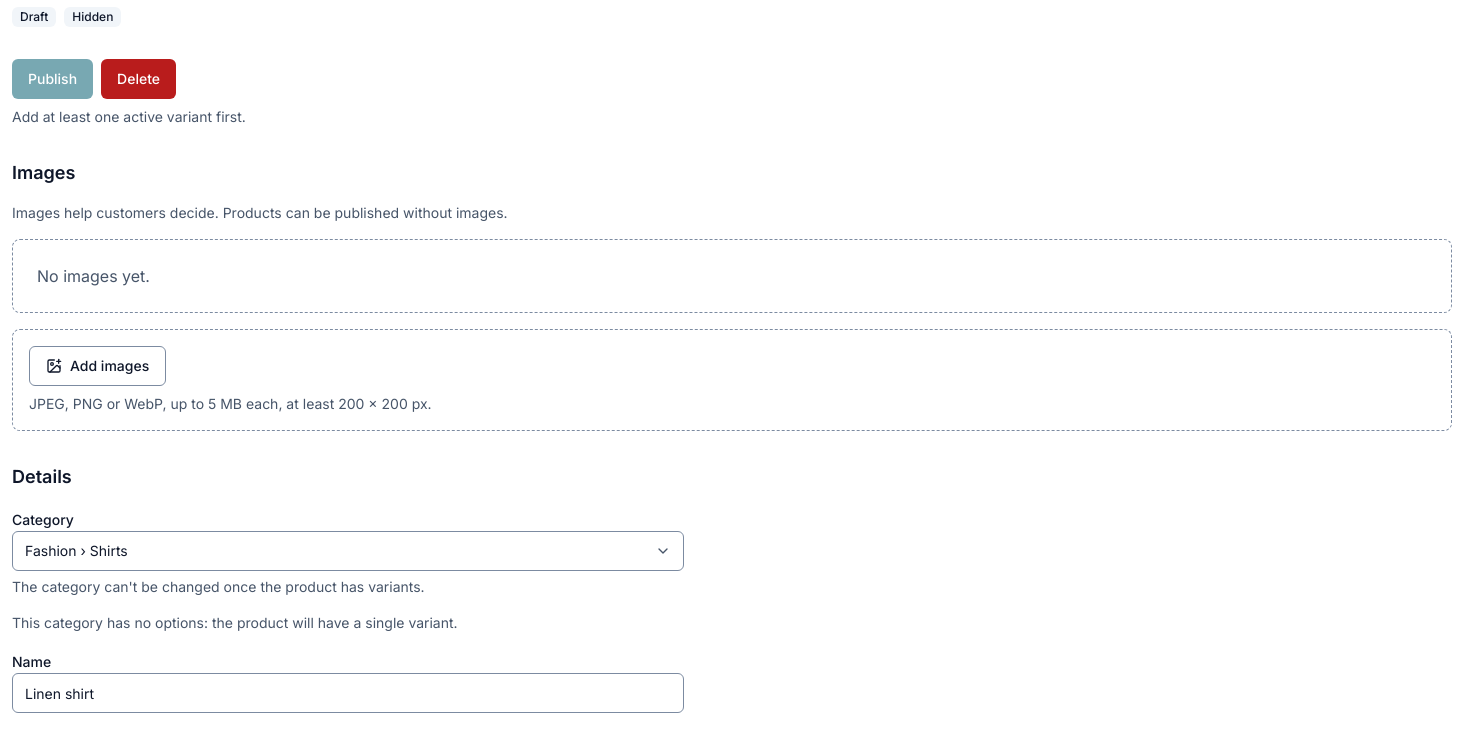
Test: product page (spec 02 SE-10) › PRODUCT_CATEGORY_LOCKED (a variant was added elsewhere): refetch, error on the category
Click the dropdown named "Category": (76, 550) [12,531,684,571]
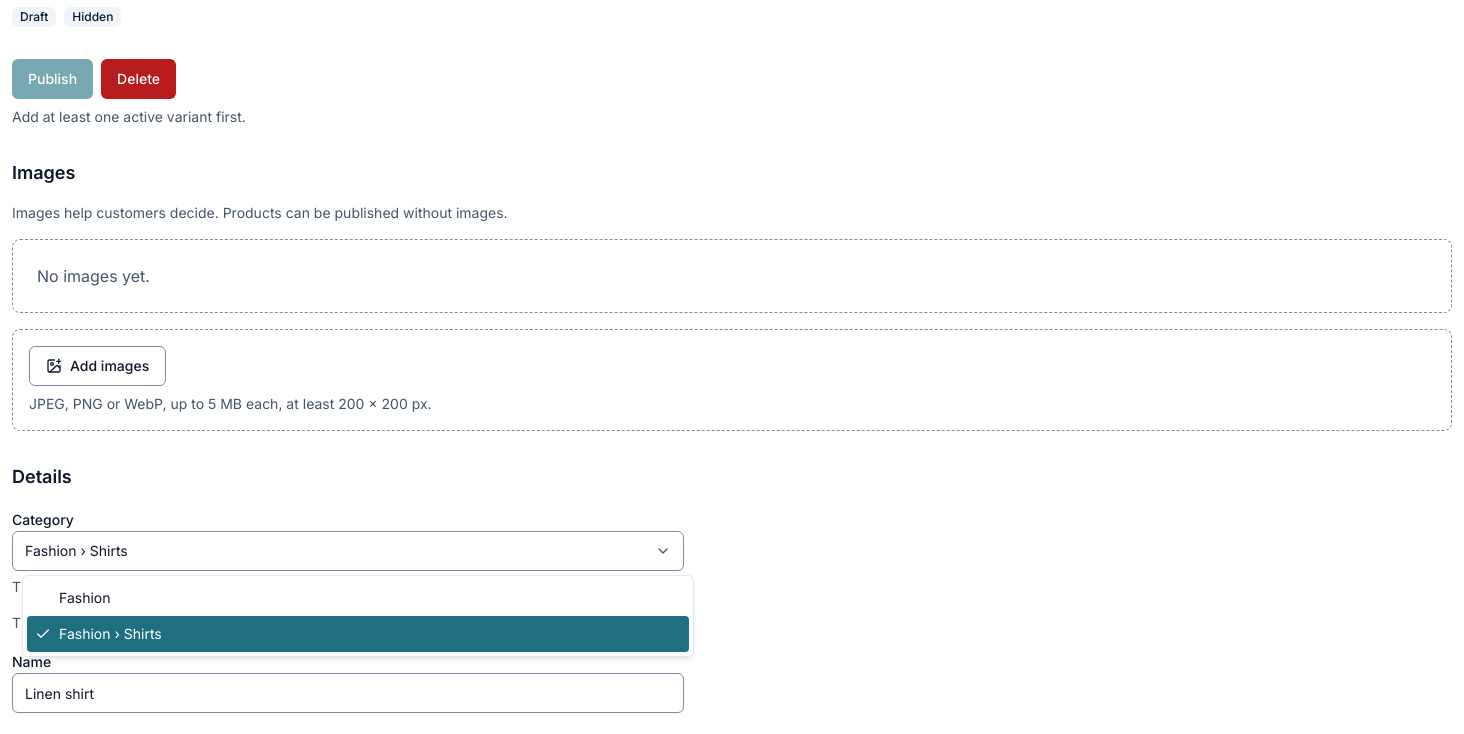
Click the option "Fashion": (85, 598) [59,589,110,606]
(page scrolled)
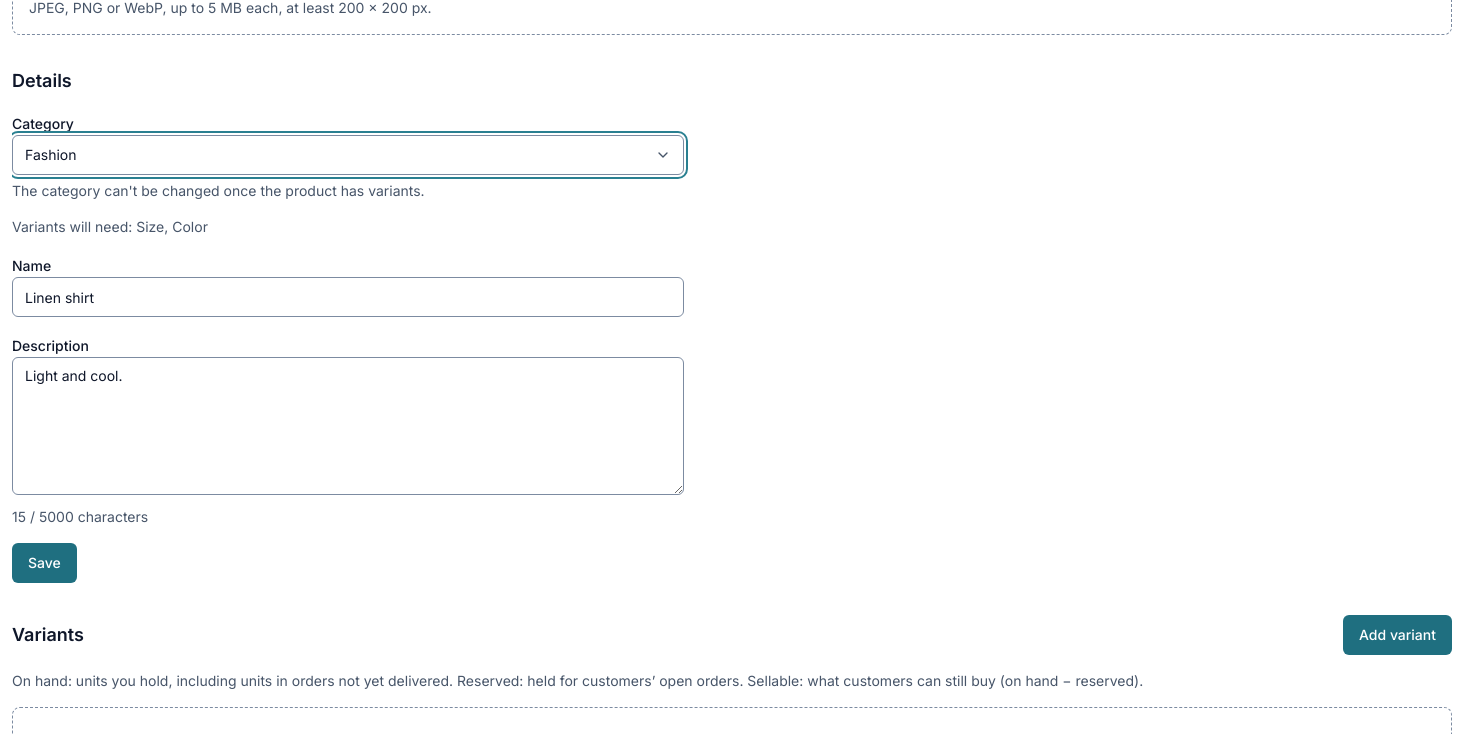
Click the button "Save": (44, 563) [12,543,77,583]
(page scrolled)
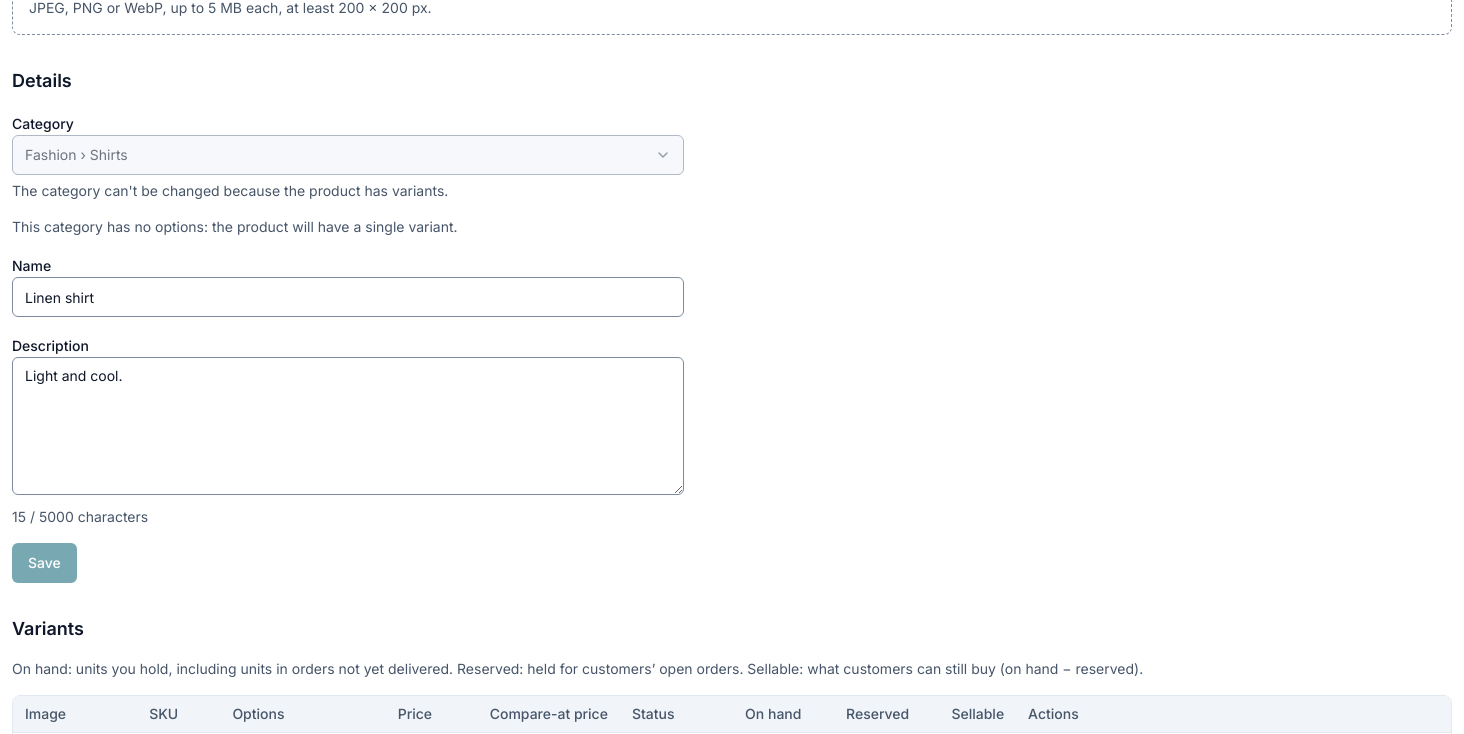
Check: the dropdown named "Category" is disabled, box [12,135,684,175]
